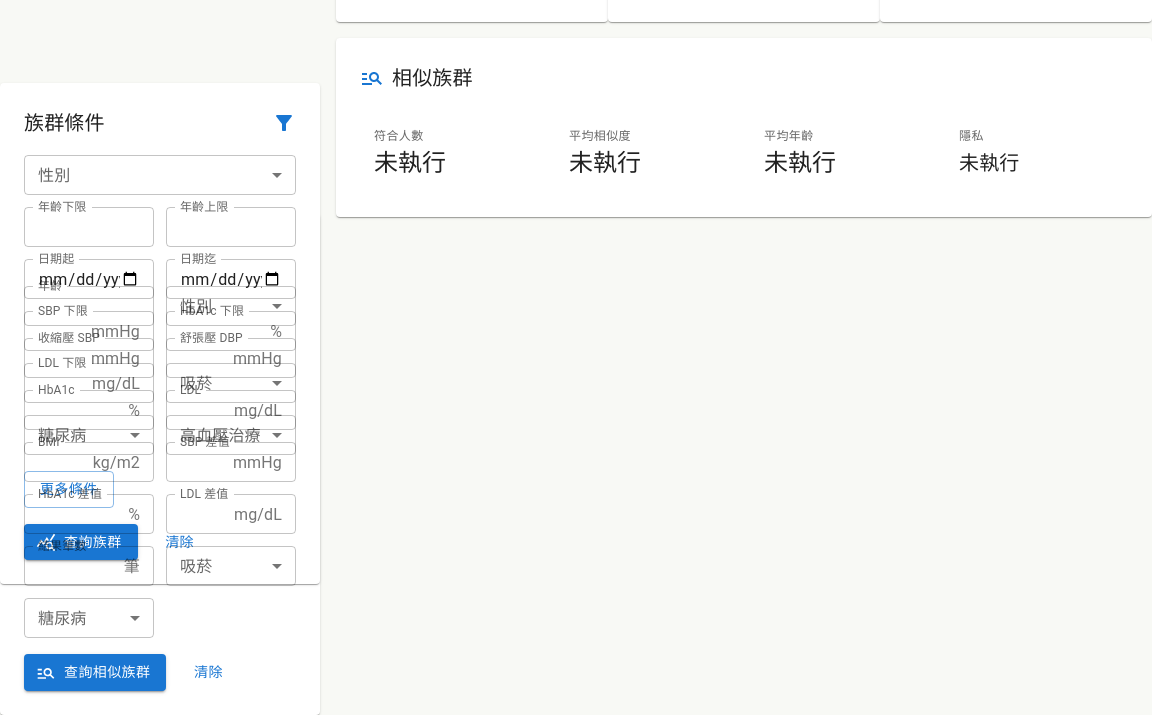
it: research percentages reject boolean and blank source values without losing numeric-string zero
(page scrolled)
Click the button "查詢相似族群" at (95, 673), box [24, 654, 166, 691]
(page scrolled)
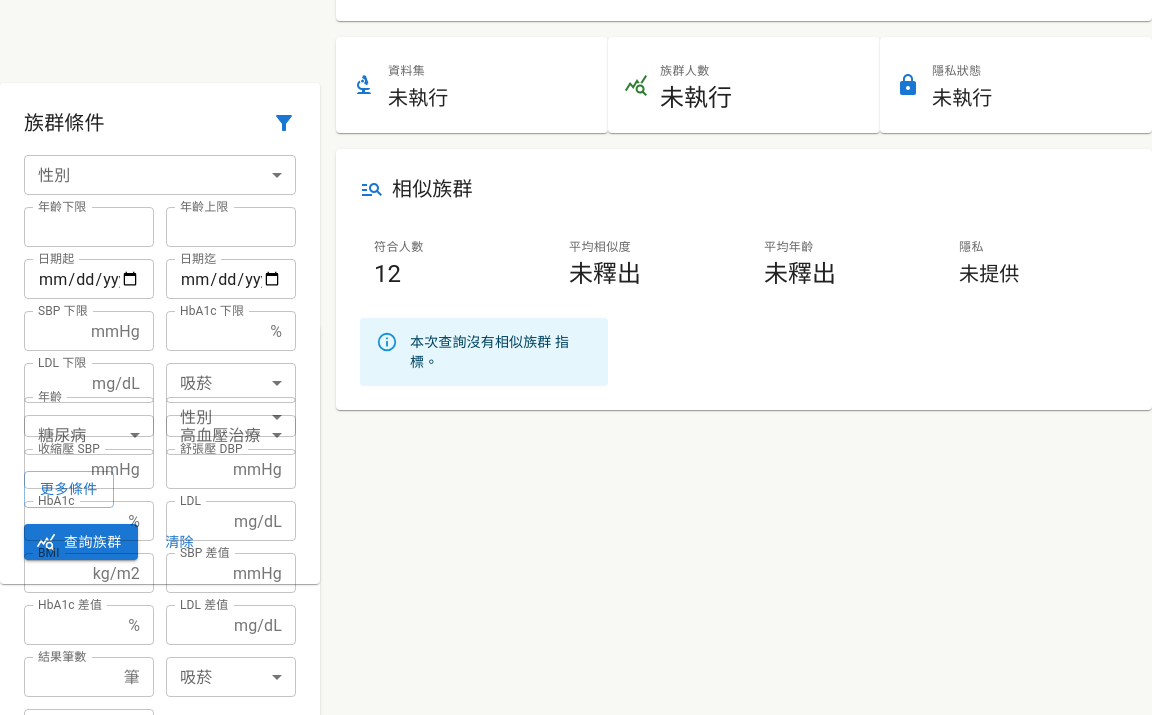
Now the text "12" is shown, box [374, 260, 401, 288]
Now the text "未釋出" below "平均相似度" is shown, box [569, 260, 641, 288]
